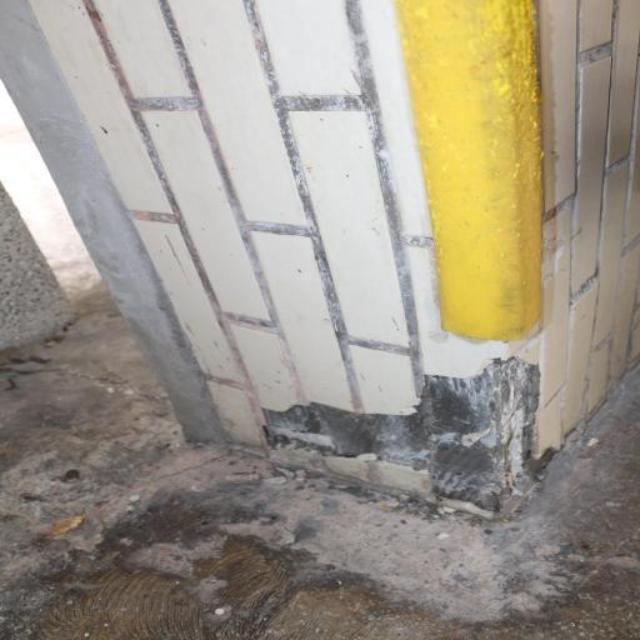D10: (262, 354, 545, 513)
